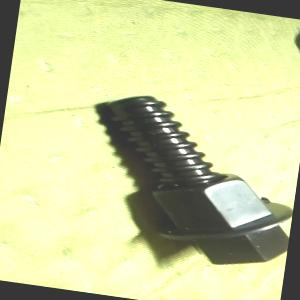parafuso: (79, 87, 300, 274)
